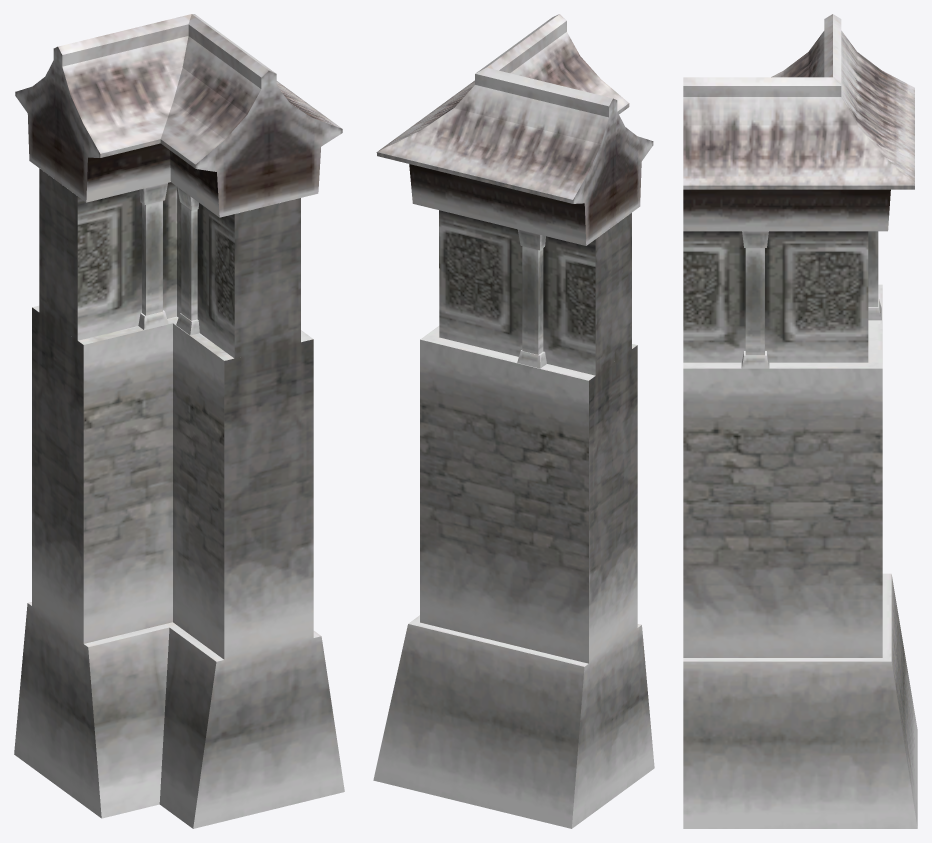
The model's file is snow-middledam-05.glb.
The picture shows the model from 3 angles, left to right: view 1: azimuth 30°, elevation 25°; view 2: azimuth 150°, elevation 25°; view 3: azimuth 270°, elevation 25°; orthographic projection. The views are drawn at different scales.
Parts seen in each view (by area): view 1: snow-middledam-02; view 2: snow-middledam-02; view 3: snow-middledam-02.
Part boxes in pixels (x1,y1,x2,y2): snow-middledam-02: (14, 14, 344, 828); snow-middledam-02: (373, 14, 654, 828); snow-middledam-02: (683, 14, 917, 828).
Size of the model in its own units: 2.35 by 7.92 by 2.35.
Materials: 1 (1 with a texture image).
